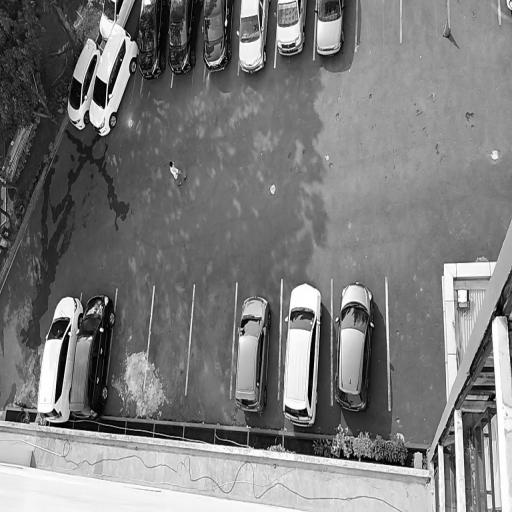Car: (34, 291, 85, 426), (280, 277, 324, 427), (68, 288, 116, 422), (85, 22, 139, 141), (333, 276, 376, 414), (232, 290, 274, 415), (64, 31, 105, 134), (199, 0, 235, 81), (236, 0, 273, 75), (138, 0, 168, 89), (166, 0, 200, 78), (273, 0, 309, 64), (314, 0, 350, 61), (96, 0, 137, 44)
Space Available: (388, 277, 441, 415), (143, 282, 194, 392), (187, 283, 236, 396), (106, 286, 153, 390), (357, 0, 401, 51), (401, 0, 450, 42), (450, 0, 500, 29)
